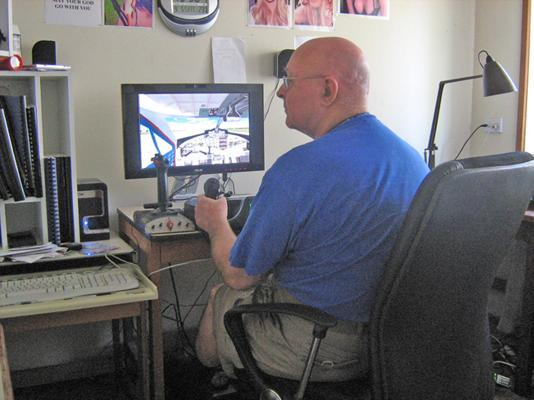person: (194, 36, 434, 386)
